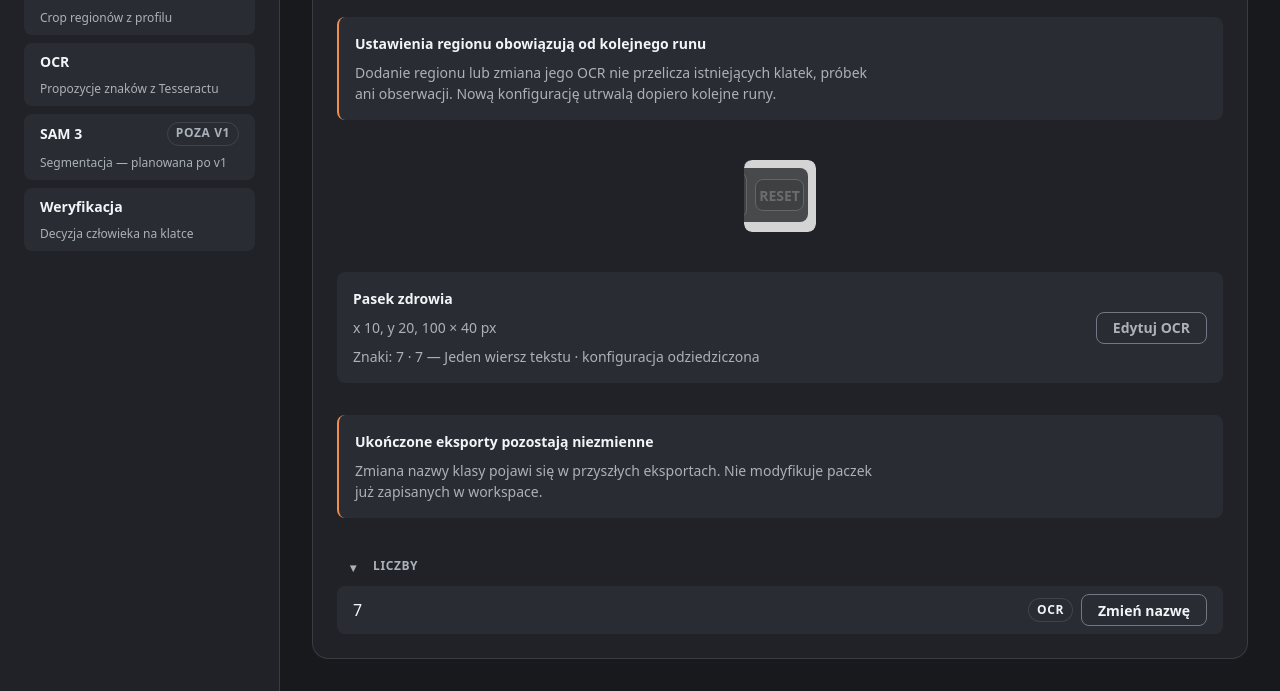
Test: profile collection and explicit selection › names every region whose explicit OCR range blocks a class change
(page scrolled)
Click the button with aria-label "Zmień nazwę klasy 7".
click(1144, 610)  # box [1081, 594, 1207, 626]
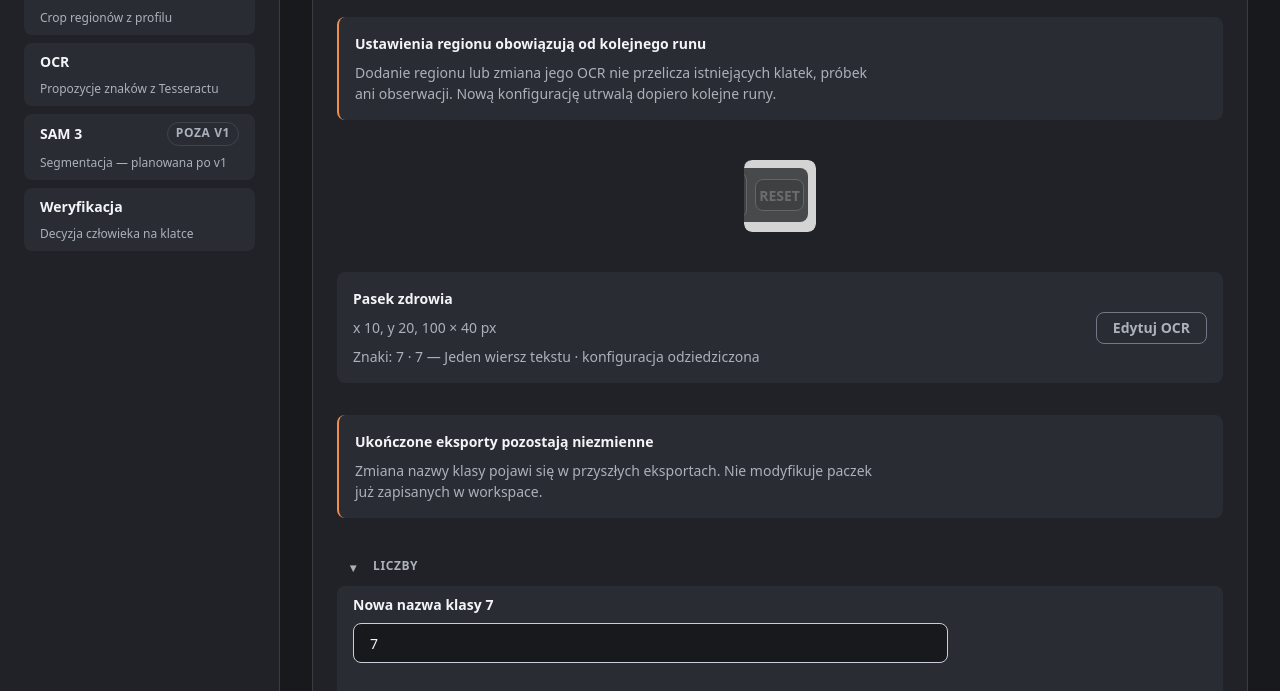
Replace the text in the field labelled "Nowa nazwa klasy 7" with "8" at (650, 643), box [353, 623, 948, 663]
(page scrolled)
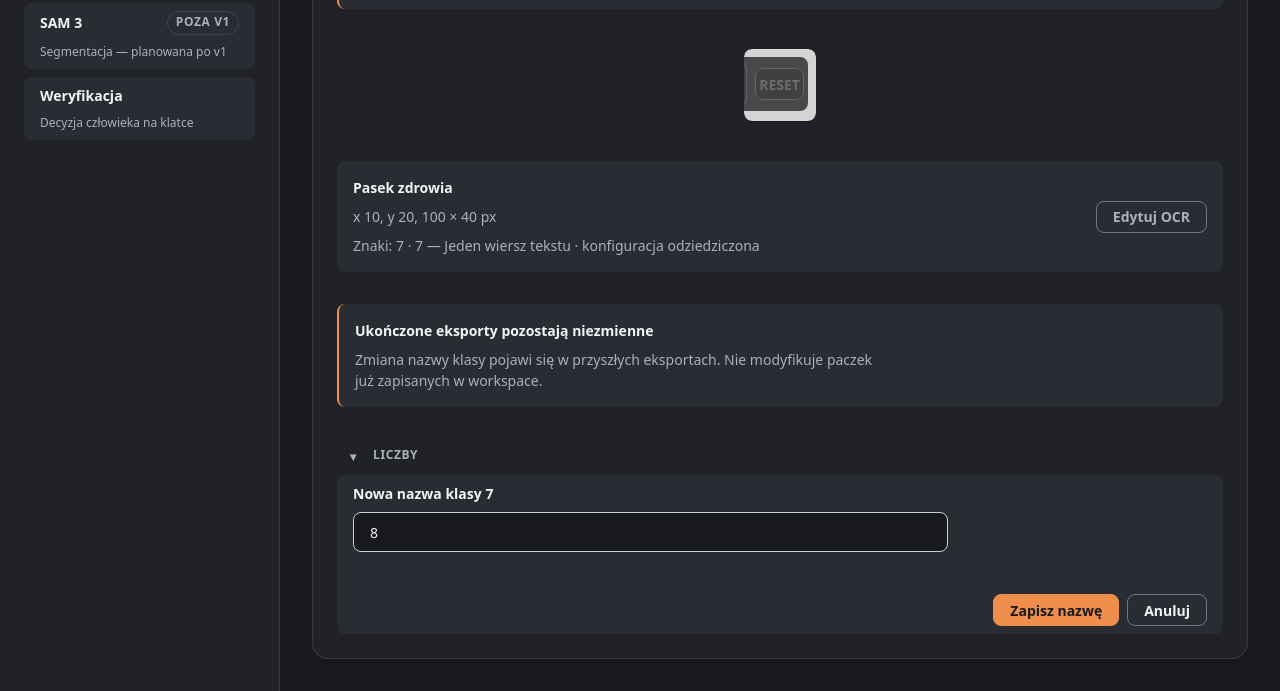
Click the button "Zapisz nazwę".
click(1056, 610)  # box [993, 594, 1119, 626]
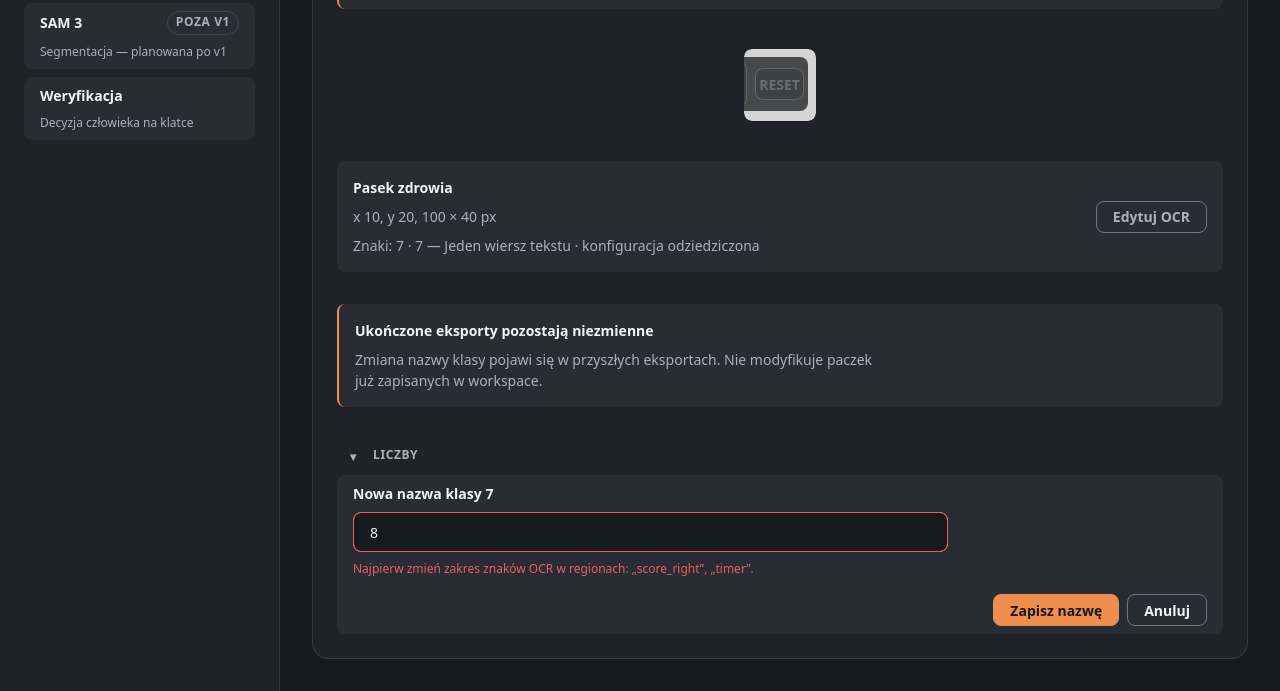
Result: the text "Najpierw zmień zakres znaków OCR w regionach: „score_right”, „timer”." is shown at [353, 560, 754, 577]
